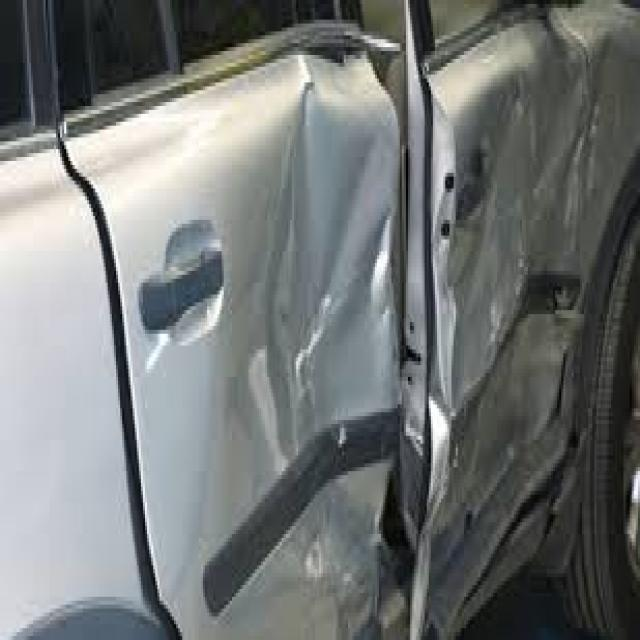moderate: (109, 79, 640, 620)
